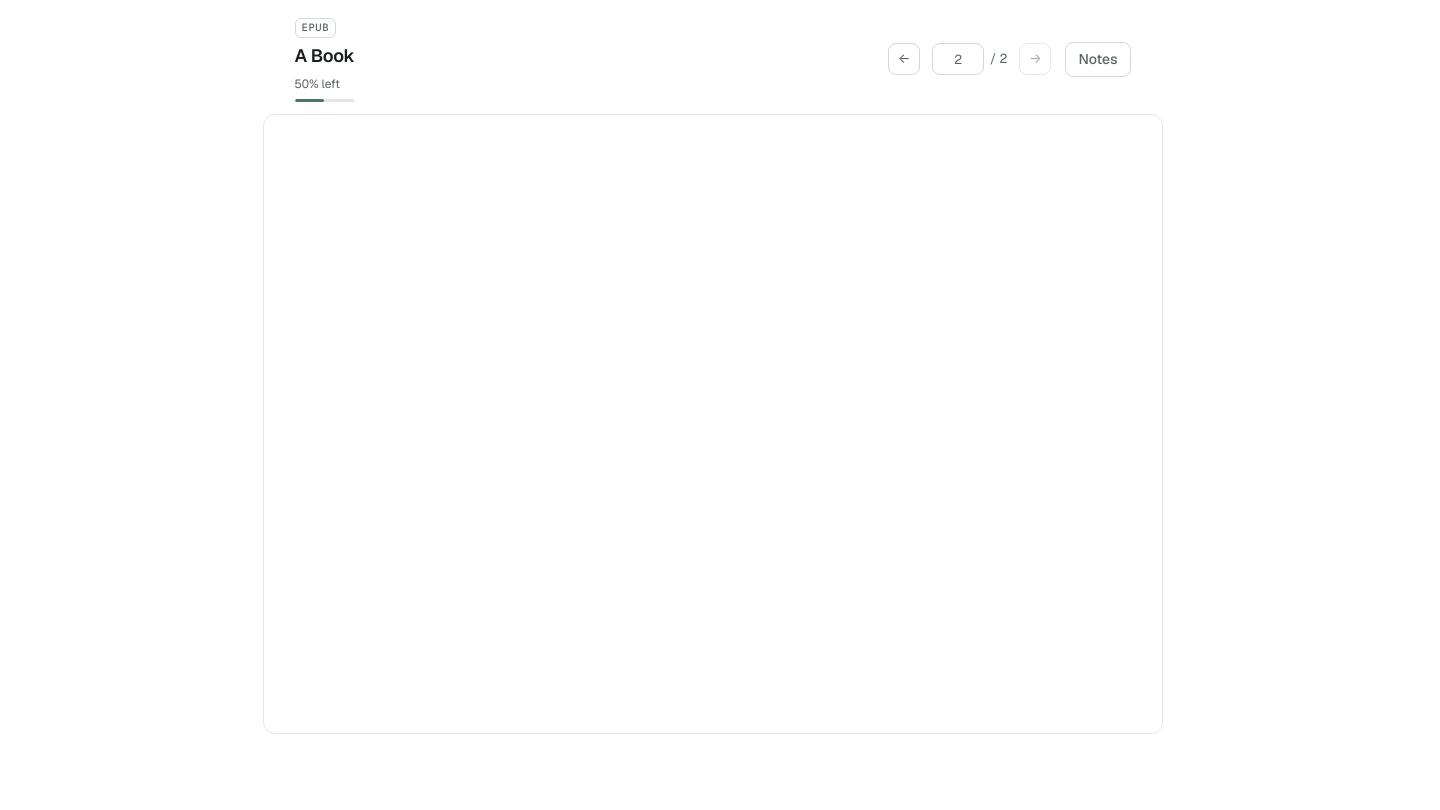
Test: useEpubReader › attaches a rendition selection to the note submitted from the notes panel
The image size is (1440, 810).
Click the button "Notes".
click(1098, 59)  # box [1065,42,1130,77]
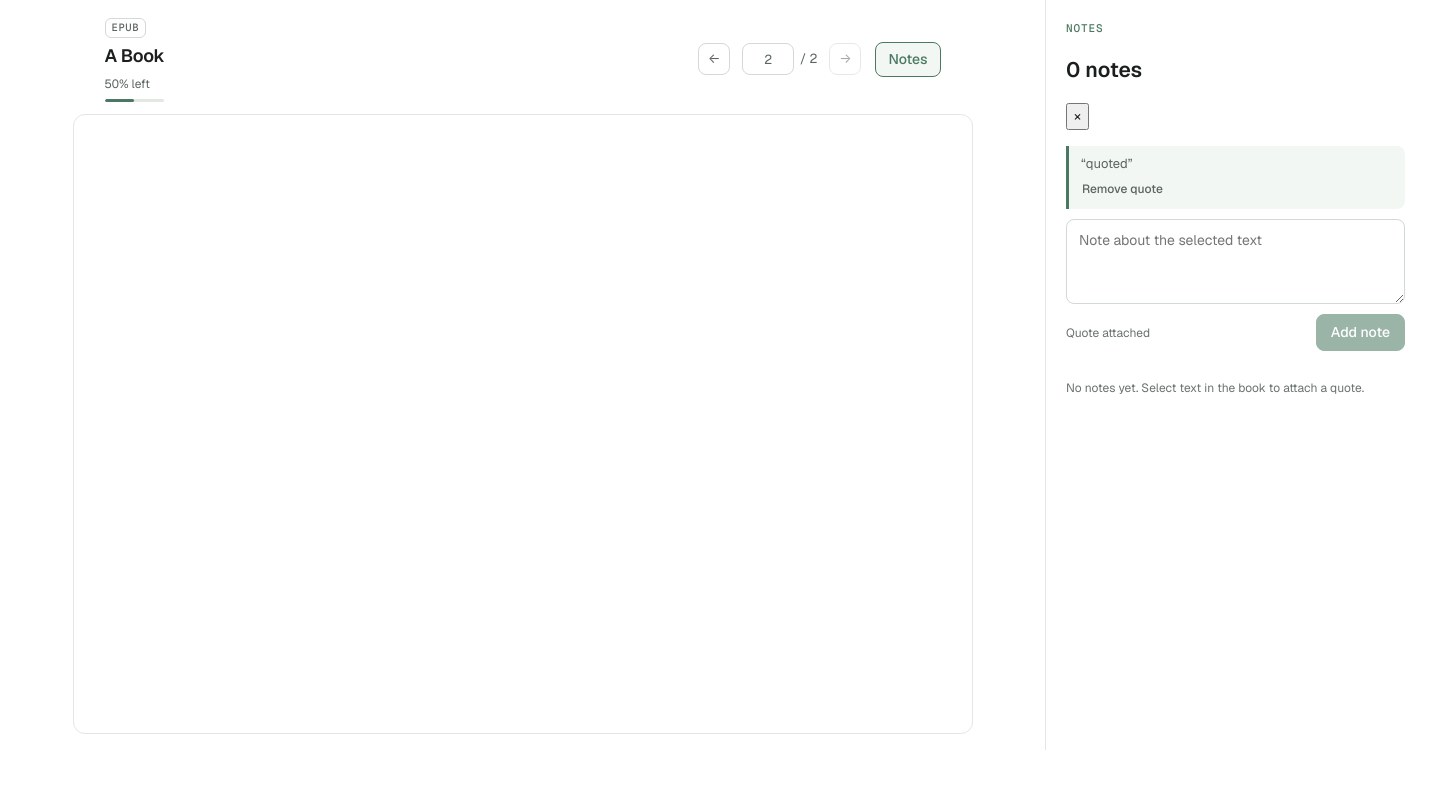
Expected: the text "Quote attached" is shown, [1066,324,1150,342]
Expected: the text "“quoted”" is shown, [1066,146,1405,209]
Type "My note" into the text box named "New note".
click(1236, 262); type("My note")  # box [1066,219,1405,304]
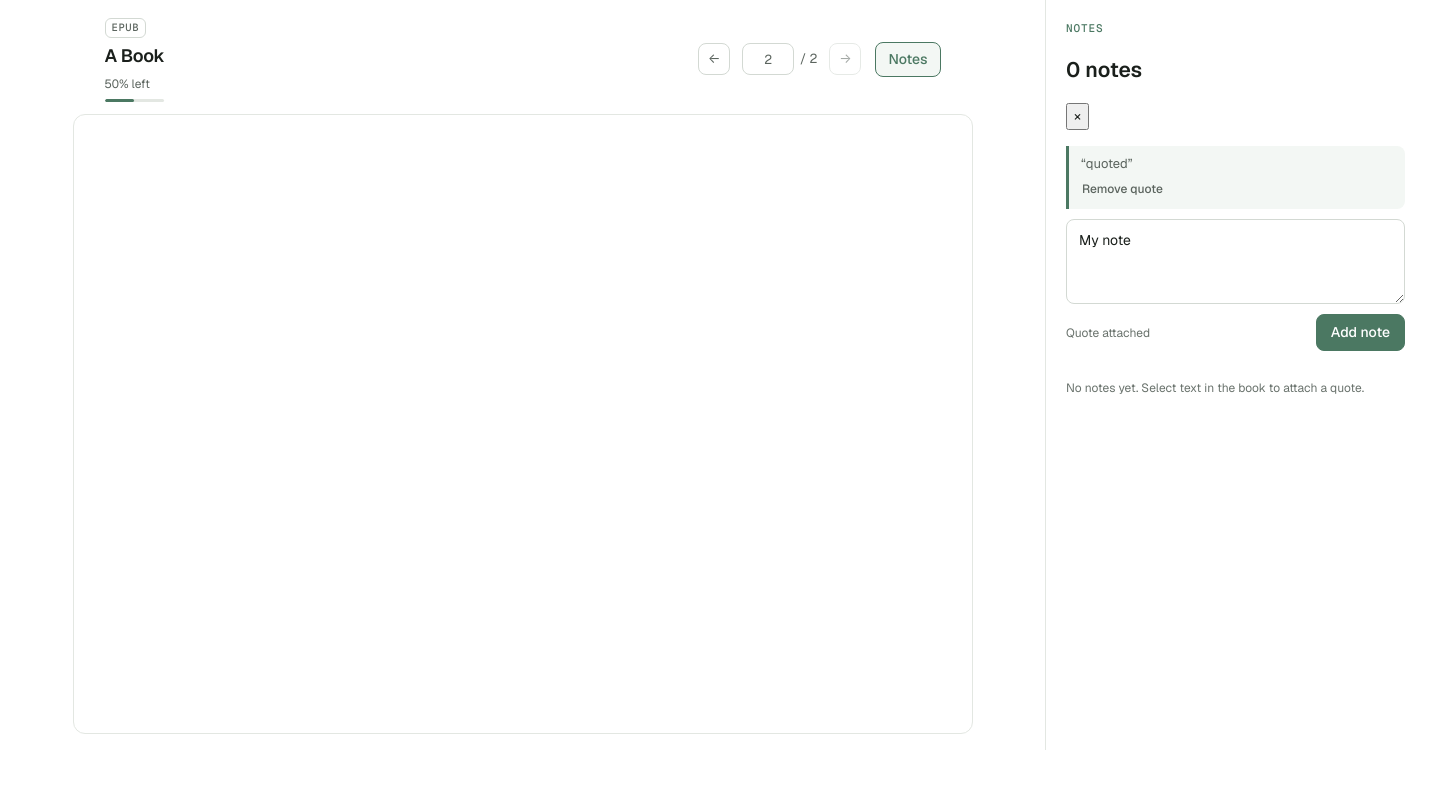
Click the button "Add note".
click(1360, 333)  # box [1316,314,1405,351]
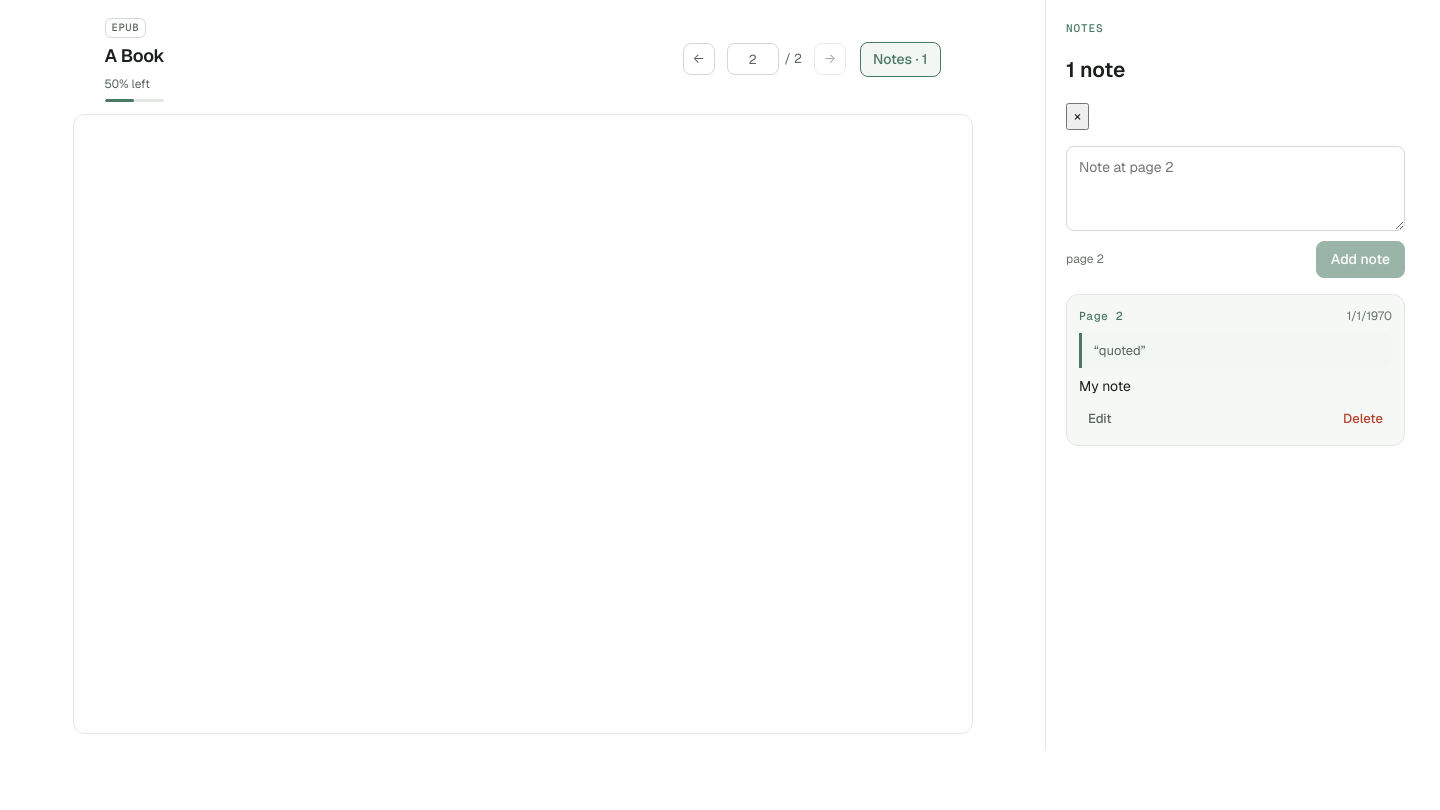
Expected: the text box "My note" is shown, [1066,146,1405,231]
Expected: the text "“quoted”" is shown, [1079,333,1392,368]
Expected: the text "Quote attached" is gone
